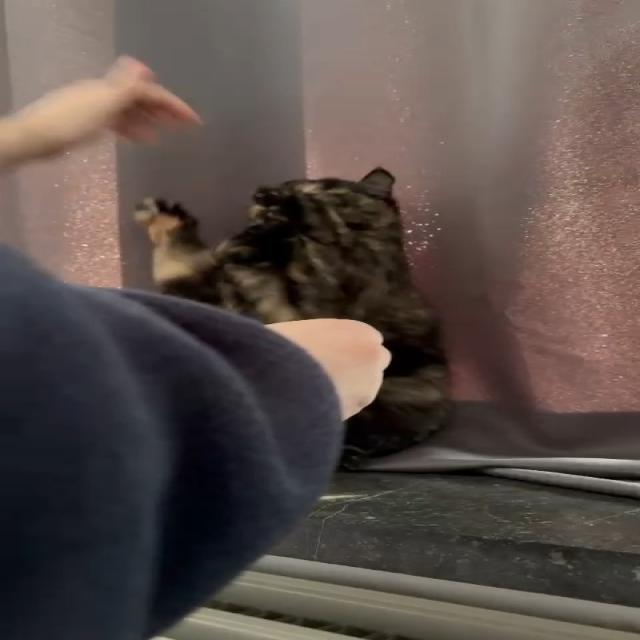authorized: (132, 166, 453, 470)
